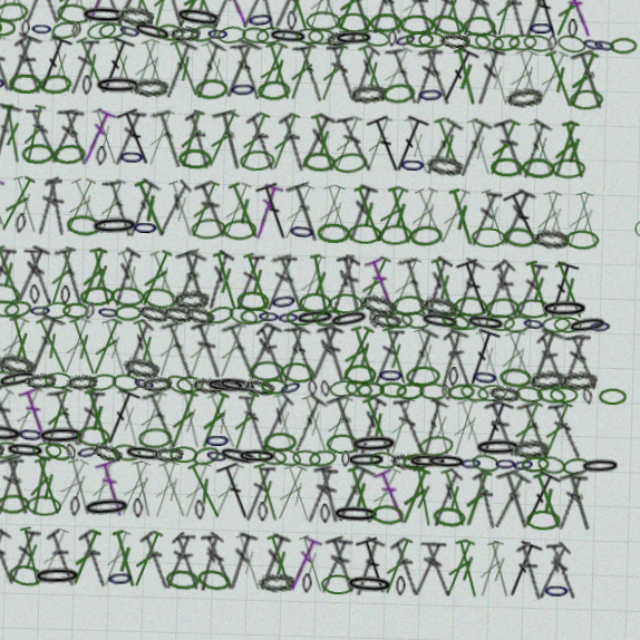chain: (199, 57, 245, 80), (129, 499, 175, 521), (129, 247, 175, 268), (367, 436, 413, 457), (87, 437, 132, 457), (87, 563, 132, 583), (161, 71, 200, 94), (49, 386, 88, 409), (372, 309, 408, 333), (345, 324, 384, 346), (249, 450, 288, 472), (129, 122, 174, 141), (535, 311, 580, 330), (31, 437, 76, 456), (479, 437, 524, 456), (367, 563, 412, 582), (559, 324, 598, 345), (115, 60, 160, 78), (353, 501, 398, 519), (498, 120, 533, 143), (50, 372, 85, 395), (162, 372, 197, 395), (429, 57, 462, 81), (358, 121, 393, 143), (428, 310, 463, 332), (526, 373, 561, 395), (429, 435, 462, 458), (234, 561, 266, 584), (345, 184, 378, 206), (37, 310, 70, 332), (65, 562, 98, 584), (315, 325, 353, 344), (427, 325, 465, 344), (247, 388, 285, 407), (429, 184, 463, 205), (513, 436, 547, 457), (289, 562, 323, 583), (10, 310, 42, 332), (178, 310, 210, 332), (468, 326, 506, 344), (165, 452, 203, 470), (334, 72, 365, 94), (163, 122, 197, 142), (205, 311, 239, 331), (555, 374, 589, 394), (38, 58, 70, 79), (94, 58, 126, 79), (220, 247, 252, 268), (388, 121, 419, 142), (94, 184, 125, 205), (500, 247, 531, 268), (262, 185, 294, 205), (388, 248, 420, 268), (122, 311, 154, 331), (402, 311, 434, 331), (416, 374, 448, 394), (136, 450, 166, 471), (575, 452, 612, 469), (149, 59, 182, 78), (527, 248, 560, 267), (80, 122, 111, 142), (220, 122, 251, 142), (276, 122, 307, 142), (556, 122, 587, 142), (416, 248, 447, 268), (486, 311, 517, 331), (304, 374, 335, 394), (444, 500, 475, 520), (206, 563, 237, 583), (200, 387, 228, 409), (226, 450, 254, 472), (255, 324, 284, 345), (108, 248, 140, 267), (215, 325, 245, 345), (284, 75, 321, 91), (343, 75, 380, 91), (237, 390, 274, 406), (59, 453, 96, 469), (365, 453, 402, 469), (318, 59, 349, 78), (66, 185, 97, 204), (542, 185, 573, 204), (150, 311, 181, 330), (458, 311, 489, 330), (500, 374, 531, 393), (178, 437, 209, 456), (121, 72, 149, 93), (213, 72, 241, 93), (235, 324, 263, 345), (446, 324, 474, 345), (298, 450, 326, 471), (375, 59, 405, 78), (11, 185, 41, 204), (515, 185, 545, 204), (249, 248, 279, 267), (174, 325, 204, 344), (277, 374, 307, 393), (123, 437, 153, 456), (53, 500, 83, 519), (389, 500, 419, 519), (264, 58, 291, 79), (292, 310, 319, 331), (131, 388, 159, 408), (465, 388, 493, 408), (93, 451, 121, 471), (346, 60, 377, 78), (402, 60, 433, 78), (472, 249, 503, 267), (556, 249, 587, 267), (346, 312, 377, 330), (514, 312, 545, 330), (80, 501, 111, 519), (528, 501, 559, 519), (346, 564, 377, 582), (267, 453, 304, 468), (420, 453, 457, 468), (437, 453, 474, 468), (11, 60, 41, 78), (459, 60, 489, 78), (89, 73, 116, 93), (53, 123, 83, 141), (207, 186, 237, 204), (319, 186, 349, 204), (487, 186, 517, 204), (333, 249, 363, 267), (361, 249, 391, 267), (263, 312, 293, 330), (319, 312, 349, 330), (361, 375, 391, 393), (291, 438, 321, 456), (347, 438, 377, 456), (273, 73, 301, 92), (367, 73, 395, 92), (543, 73, 571, 92), (88, 325, 116, 344), (410, 325, 438, 344), (75, 389, 104, 407), (112, 389, 141, 407), (179, 389, 208, 407), (271, 389, 300, 407), (153, 563, 179, 583), (459, 73, 486, 92), (54, 325, 81, 344), (332, 325, 359, 344), (20, 451, 47, 470), (331, 451, 358, 470), (477, 451, 504, 470), (536, 451, 563, 470), (238, 74, 266, 92), (469, 74, 497, 92), (302, 387, 326, 408), (419, 122, 445, 141), (307, 248, 333, 267), (475, 374, 501, 393), (69, 437, 95, 456), (196, 326, 225, 343), (383, 326, 412, 343), (491, 389, 520, 406), (191, 452, 220, 469), (513, 74, 540, 92), (502, 326, 529, 344), (534, 389, 561, 407), (46, 452, 73, 470), (396, 73, 420, 93), (251, 122, 276, 141), (27, 248, 52, 267), (485, 74, 511, 92), (21, 326, 47, 344), (408, 389, 434, 407), (515, 389, 541, 407), (559, 452, 585, 470), (266, 326, 293, 343), (537, 326, 564, 343), (20, 389, 47, 406), (348, 389, 375, 406), (481, 389, 508, 406), (155, 452, 182, 469), (286, 452, 313, 469), (517, 60, 542, 78), (27, 123, 52, 141), (153, 186, 178, 204), (405, 186, 430, 204), (167, 249, 192, 267), (391, 375, 416, 393), (237, 438, 262, 456), (545, 564, 570, 582), (196, 75, 224, 91), (225, 390, 253, 406), (31, 453, 59, 469), (405, 453, 433, 469), (132, 74, 158, 91), (184, 74, 210, 91), (500, 74, 526, 91), (42, 389, 68, 406), (153, 389, 179, 406), (362, 389, 388, 406), (454, 389, 480, 406), (386, 452, 412, 469), (522, 452, 548, 469), (149, 73, 172, 92), (565, 73, 588, 92), (122, 451, 145, 470), (438, 75, 466, 90), (317, 453, 343, 469), (416, 453, 442, 469), (575, 74, 598, 92), (171, 389, 194, 407), (238, 452, 261, 470), (513, 452, 536, 470), (261, 75, 286, 91), (591, 75, 616, 91), (154, 327, 179, 343), (373, 390, 398, 406), (309, 75, 335, 90), (43, 327, 69, 342), (308, 327, 334, 342), (457, 327, 483, 342), (487, 327, 513, 342), (429, 390, 455, 405), (546, 390, 572, 405), (84, 453, 110, 468), (21, 75, 46, 90), (33, 75, 58, 90), (320, 75, 345, 90), (408, 75, 433, 90), (419, 75, 444, 90), (107, 327, 132, 342), (397, 327, 422, 342), (548, 327, 573, 342), (93, 390, 118, 405), (211, 390, 236, 405), (287, 390, 312, 405), (393, 390, 418, 405), (590, 390, 615, 405), (207, 453, 232, 468), (519, 326, 541, 343), (299, 327, 321, 343), (579, 327, 601, 343), (77, 327, 98, 343), (138, 327, 159, 343), (467, 453, 488, 469), (71, 75, 92, 90), (229, 75, 250, 90), (282, 327, 303, 342), (498, 453, 519, 468), (62, 248, 73, 267), (230, 501, 241, 519), (381, 327, 393, 343), (448, 390, 460, 406), (113, 453, 125, 469), (133, 186, 143, 204), (77, 312, 87, 330), (175, 501, 185, 519), (287, 501, 297, 519), (343, 501, 353, 519), (107, 75, 118, 91), (126, 327, 137, 343), (575, 390, 586, 406), (301, 60, 310, 78), (553, 60, 562, 78), (119, 123, 128, 141), (105, 312, 114, 330), (455, 375, 464, 393), (119, 501, 128, 519), (329, 564, 338, 582), (413, 564, 422, 582), (340, 390, 350, 406), (535, 75, 544, 90), (329, 390, 338, 405), (63, 75, 71, 90), (392, 75, 400, 90), (361, 453, 369, 468)
double: (140, 23, 183, 80), (498, 212, 541, 269), (351, 464, 393, 521), (421, 150, 463, 206), (491, 465, 533, 521), (435, 86, 476, 143), (149, 149, 190, 206), (519, 464, 560, 521), (240, 86, 280, 143), (374, 149, 414, 206), (346, 401, 386, 458), (248, 464, 288, 521), (346, 23, 385, 80), (44, 86, 83, 143), (556, 86, 595, 143), (394, 149, 433, 206), (276, 212, 315, 269), (304, 212, 343, 269), (458, 275, 497, 332), (72, 338, 111, 395), (142, 401, 181, 458), (500, 464, 539, 521), (29, 403, 70, 457), (198, 24, 238, 79), (220, 465, 260, 520), (73, 86, 111, 143), (129, 86, 167, 143), (207, 275, 245, 332), (521, 338, 559, 395), (53, 464, 91, 521), (557, 464, 595, 521), (3, 527, 41, 584), (375, 527, 413, 584), (507, 527, 545, 584), (44, 213, 83, 268), (108, 213, 147, 268), (416, 213, 455, 268), (80, 339, 119, 394), (100, 465, 139, 520), (185, 87, 223, 143), (451, 150, 489, 206), (25, 339, 63, 395), (249, 339, 287, 395), (409, 339, 447, 395), (179, 402, 217, 458), (311, 402, 349, 458), (31, 528, 69, 584), (507, 23, 544, 80), (515, 23, 552, 80), (479, 401, 516, 458), (151, 24, 189, 79), (395, 24, 433, 79), (109, 87, 147, 142), (221, 87, 259, 142), (311, 150, 349, 205), (165, 213, 203, 268), (221, 213, 259, 268), (249, 213, 287, 268), (353, 339, 391, 394), (501, 339, 539, 394), (39, 402, 77, 457), (235, 402, 273, 457), (381, 465, 419, 520), (389, 87, 426, 143), (157, 213, 194, 269), (557, 339, 594, 395), (95, 402, 132, 458), (515, 402, 552, 458), (236, 149, 272, 206), (466, 338, 502, 395), (3, 24, 40, 79), (87, 24, 124, 79), (207, 24, 244, 79), (235, 24, 272, 79), (193, 87, 230, 142), (381, 87, 418, 142), (521, 87, 558, 142), (297, 213, 334, 268), (381, 213, 418, 268), (151, 276, 188, 331), (367, 276, 404, 331), (45, 339, 82, 394), (269, 339, 306, 394), (375, 402, 412, 457), (487, 402, 524, 457), (389, 465, 426, 520), (418, 87, 454, 143), (200, 276, 236, 332), (292, 276, 328, 332), (194, 339, 230, 395), (368, 528, 404, 584), (4, 149, 39, 206), (284, 24, 320, 79), (320, 24, 356, 79), (340, 24, 376, 79), (536, 24, 572, 79), (544, 24, 580, 79), (26, 87, 62, 142), (270, 87, 306, 142), (362, 87, 398, 142), (494, 87, 530, 142), (530, 87, 566, 142), (228, 150, 264, 205), (256, 150, 292, 205), (432, 150, 468, 205), (480, 150, 516, 205), (488, 150, 524, 205), (26, 213, 62, 268), (102, 213, 138, 268), (438, 213, 474, 268), (494, 213, 530, 268), (40, 276, 76, 331), (60, 276, 96, 331), (172, 276, 208, 331), (180, 276, 216, 331), (544, 276, 580, 331), (222, 339, 258, 394), (60, 402, 96, 457), (508, 402, 544, 457), (158, 465, 194, 520), (242, 465, 278, 520), (298, 465, 334, 520), (530, 465, 566, 520), (214, 87, 249, 143), (250, 87, 285, 143), (306, 87, 341, 143), (180, 150, 215, 206), (536, 276, 571, 332), (306, 339, 341, 395), (12, 24, 47, 79), (116, 24, 151, 79), (138, 87, 173, 142), (116, 150, 151, 205), (340, 150, 375, 205), (18, 213, 53, 268), (214, 213, 249, 268), (334, 213, 369, 268), (362, 213, 397, 268), (264, 276, 299, 331), (376, 276, 411, 331), (396, 276, 431, 331), (110, 339, 145, 394), (130, 339, 165, 394), (326, 339, 361, 394), (474, 339, 509, 394), (172, 402, 207, 457), (320, 402, 355, 457), (460, 402, 495, 457), (536, 402, 571, 457), (82, 465, 117, 520), (194, 465, 229, 520), (306, 465, 341, 520), (88, 528, 123, 583), (172, 528, 207, 583), (264, 528, 299, 583), (312, 528, 347, 583), (348, 528, 383, 583), (452, 528, 487, 583), (186, 214, 222, 267), (33, 150, 67, 206), (97, 150, 131, 206), (509, 150, 543, 206), (139, 213, 173, 269), (405, 276, 439, 332), (439, 339, 473, 395), (348, 151, 383, 205), (41, 24, 75, 79), (19, 87, 53, 142), (167, 87, 201, 142), (327, 87, 361, 142), (503, 87, 537, 142), (551, 87, 585, 142), (125, 150, 159, 205), (173, 150, 207, 205), (285, 150, 319, 205), (405, 150, 439, 205), (461, 150, 495, 205), (517, 150, 551, 205), (131, 213, 165, 268), (195, 213, 229, 268), (243, 213, 277, 268), (327, 213, 361, 268), (411, 213, 445, 268), (475, 213, 509, 268), (103, 339, 137, 394), (167, 339, 201, 394), (243, 339, 277, 394), (335, 339, 369, 394), (419, 339, 453, 394), (69, 402, 103, 457), (201, 402, 235, 457), (229, 402, 263, 457), (215, 465, 249, 520), (363, 465, 397, 520), (411, 465, 445, 520), (117, 528, 151, 583), (285, 528, 319, 583), (293, 528, 327, 583), (397, 528, 431, 583), (284, 403, 319, 456), (536, 529, 571, 582), (97, 276, 130, 332), (453, 276, 486, 332), (299, 339, 332, 395), (19, 465, 52, 521), (125, 25, 159, 79), (13, 151, 47, 205), (279, 340, 313, 394), (531, 340, 565, 394), (293, 24, 326, 79), (159, 87, 192, 142), (279, 87, 312, 142), (299, 87, 332, 142), (475, 87, 508, 142), (321, 150, 354, 205), (369, 150, 402, 205), (447, 213, 480, 268), (551, 213, 584, 268), (237, 276, 270, 331), (313, 276, 346, 331), (433, 276, 466, 331), (139, 339, 172, 394), (363, 339, 396, 394), (391, 339, 424, 394), (125, 402, 158, 457), (341, 402, 374, 457), (27, 465, 60, 520), (279, 465, 312, 520), (447, 465, 480, 520), (145, 528, 178, 583), (321, 528, 354, 583), (69, 151, 103, 204), (378, 24, 410, 80), (69, 25, 102, 79), (229, 25, 262, 79), (257, 25, 290, 79), (89, 151, 122, 205), (341, 277, 374, 331), (481, 277, 514, 331), (447, 340, 480, 394), (545, 403, 578, 457), (97, 529, 130, 583), (181, 529, 214, 583), (209, 529, 242, 583), (237, 529, 270, 583), (98, 24, 130, 79), (314, 24, 346, 79), (84, 87, 116, 142), (538, 150, 570, 205), (546, 150, 578, 205), (56, 213, 88, 268), (356, 213, 388, 268), (392, 213, 424, 268), (524, 213, 556, 268), (532, 213, 564, 268), (560, 213, 592, 268), (90, 276, 122, 331), (118, 276, 150, 331), (518, 276, 550, 331), (20, 339, 52, 394), (56, 339, 88, 394), (216, 339, 248, 394), (6, 402, 38, 457), (90, 402, 122, 457), (154, 402, 186, 457), (258, 402, 290, 457), (454, 402, 486, 457), (112, 465, 144, 520), (140, 465, 172, 520), (188, 465, 220, 520), (468, 465, 500, 520), (154, 528, 186, 583), (490, 528, 522, 583), (426, 402, 457, 458), (462, 25, 494, 79), (146, 151, 178, 205), (266, 151, 298, 205), (6, 277, 38, 331), (510, 277, 542, 331), (406, 403, 438, 457), (440, 466, 472, 520), (62, 529, 94, 583), (126, 529, 158, 583), (342, 529, 374, 583), (406, 529, 438, 583), (426, 529, 458, 583), (434, 529, 466, 583), (34, 24, 65, 79), (448, 87, 479, 142), (468, 87, 499, 142), (272, 213, 303, 268), (126, 276, 157, 331), (146, 276, 177, 331), (230, 276, 261, 331), (426, 276, 457, 331), (496, 339, 527, 394), (210, 402, 241, 457), (294, 402, 325, 457), (398, 402, 429, 457), (132, 465, 163, 520), (336, 465, 367, 520), (258, 528, 289, 583), (462, 528, 493, 583), (482, 528, 513, 583), (56, 88, 87, 142), (468, 214, 499, 268), (34, 277, 65, 331), (286, 277, 317, 331), (490, 277, 521, 331), (160, 340, 191, 394), (370, 403, 401, 457), (328, 466, 359, 520), (14, 529, 45, 583), (42, 529, 73, 583), (175, 24, 205, 79), (435, 24, 465, 79), (483, 24, 513, 79), (337, 87, 367, 142), (203, 150, 233, 205), (351, 276, 381, 331), (189, 339, 219, 394), (169, 465, 199, 520), (71, 528, 101, 583), (547, 528, 577, 583), (357, 88, 387, 142), (295, 151, 325, 205), (71, 277, 101, 331), (385, 340, 415, 394), (267, 403, 297, 457), (273, 466, 303, 520), (553, 466, 583, 520), (203, 529, 233, 583), (519, 529, 549, 583), (63, 25, 92, 79), (407, 25, 436, 79), (455, 25, 484, 79), (491, 25, 520, 79), (105, 88, 134, 142), (211, 151, 240, 205), (15, 277, 44, 331), (259, 277, 288, 331), (553, 340, 582, 394), (15, 403, 44, 457), (119, 403, 148, 457), (44, 150, 72, 205), (324, 276, 352, 331), (436, 402, 464, 457), (422, 465, 450, 520), (184, 25, 212, 79), (268, 25, 296, 79), (372, 25, 400, 79), (428, 25, 456, 79), (414, 88, 442, 142), (478, 466, 506, 520), (64, 150, 91, 205), (50, 466, 77, 520), (232, 529, 259, 583), (79, 465, 104, 520), (79, 214, 104, 268), (87, 214, 112, 268)
noise: (618, 135, 640, 164), (616, 237, 634, 255)
